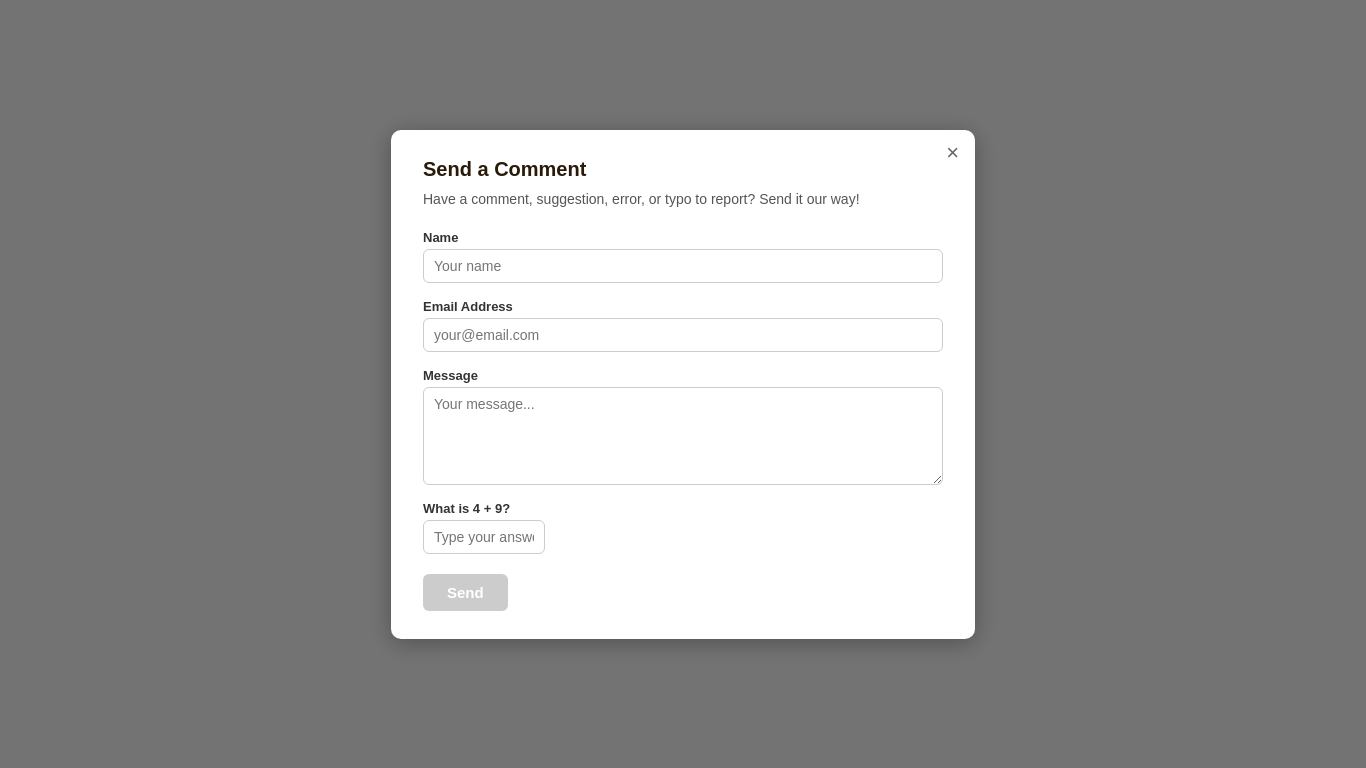
Test case: shows the server-provided error message on a failed response
The image size is (1366, 768).
In the field labelled "Name": (683, 266) [423,248,943,282], type "Drizzt"
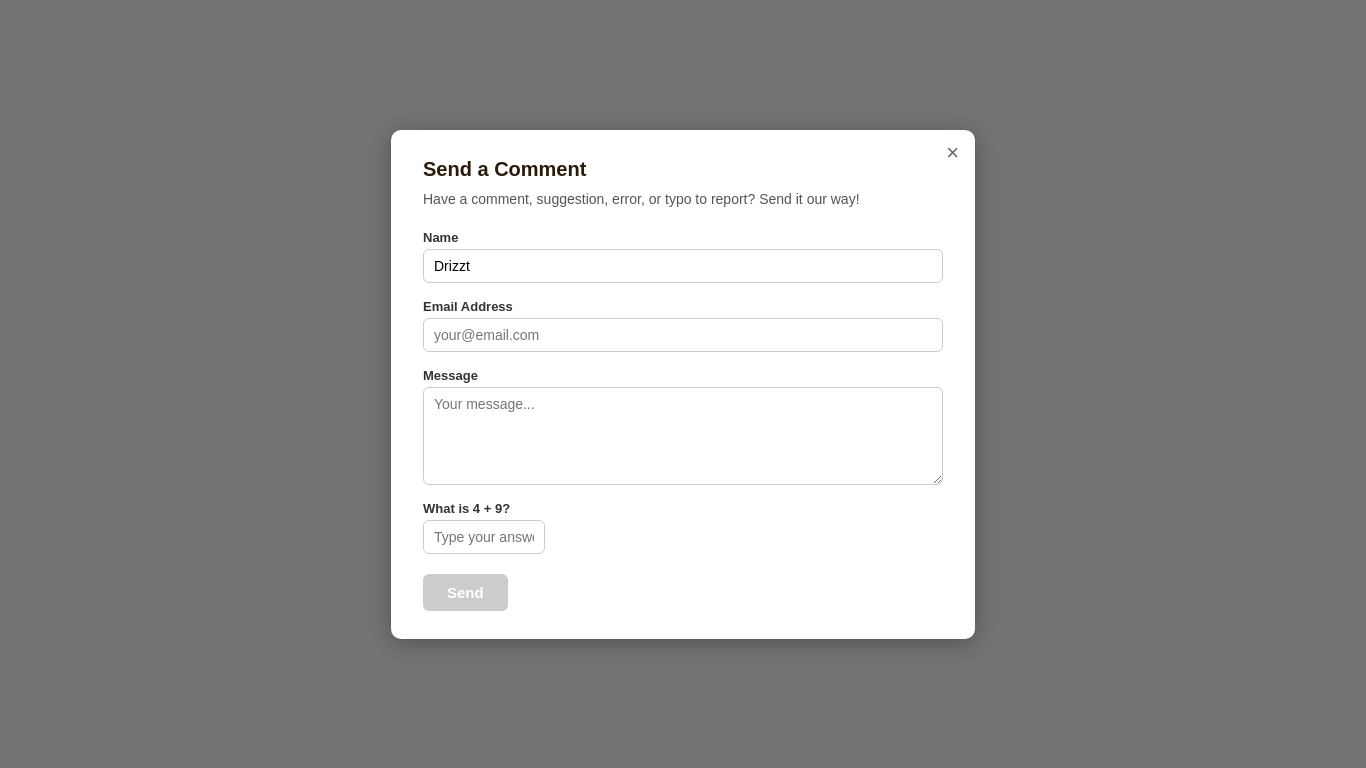
In the field labelled "Email Address": (683, 334) [423,318,943,352], type "drizzt@menzo.com"
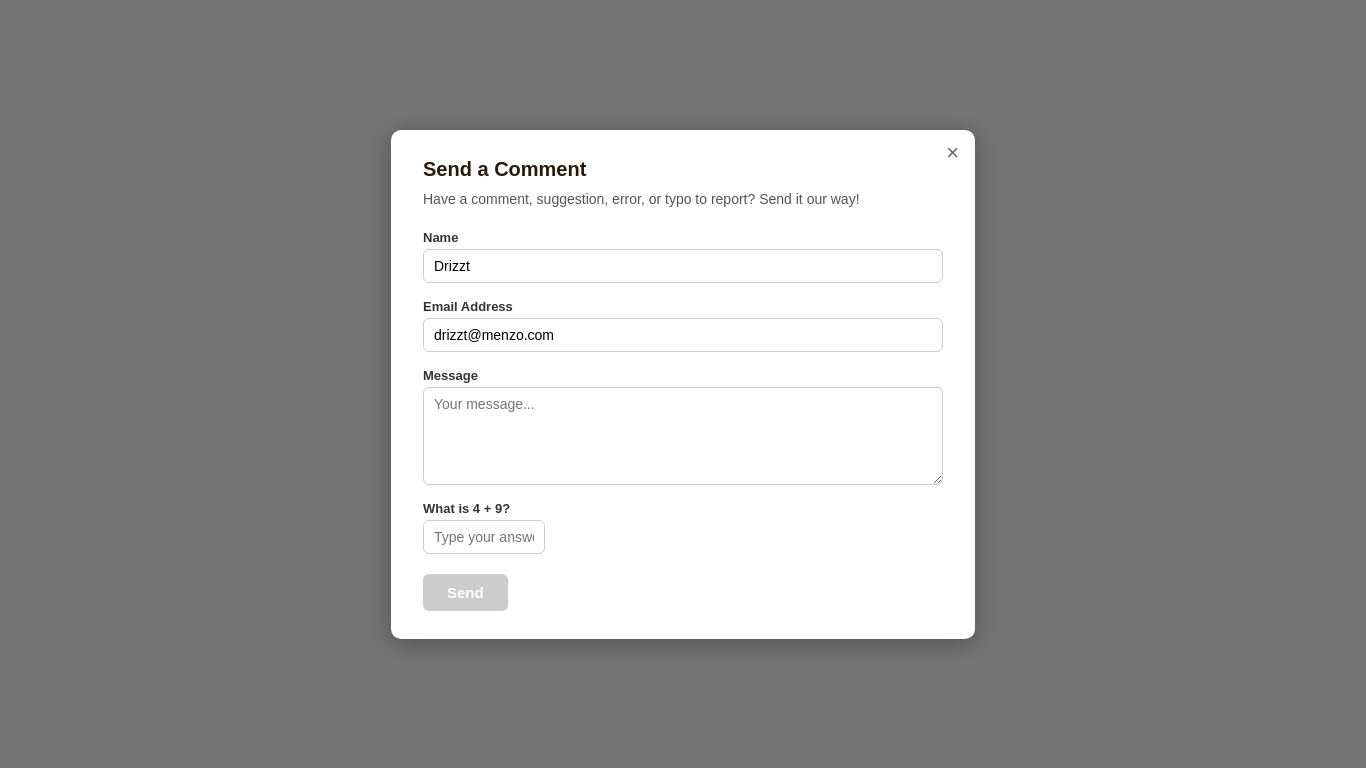
In the text box labelled "Message": (683, 436) [423,386,943,484], type "Hello there"
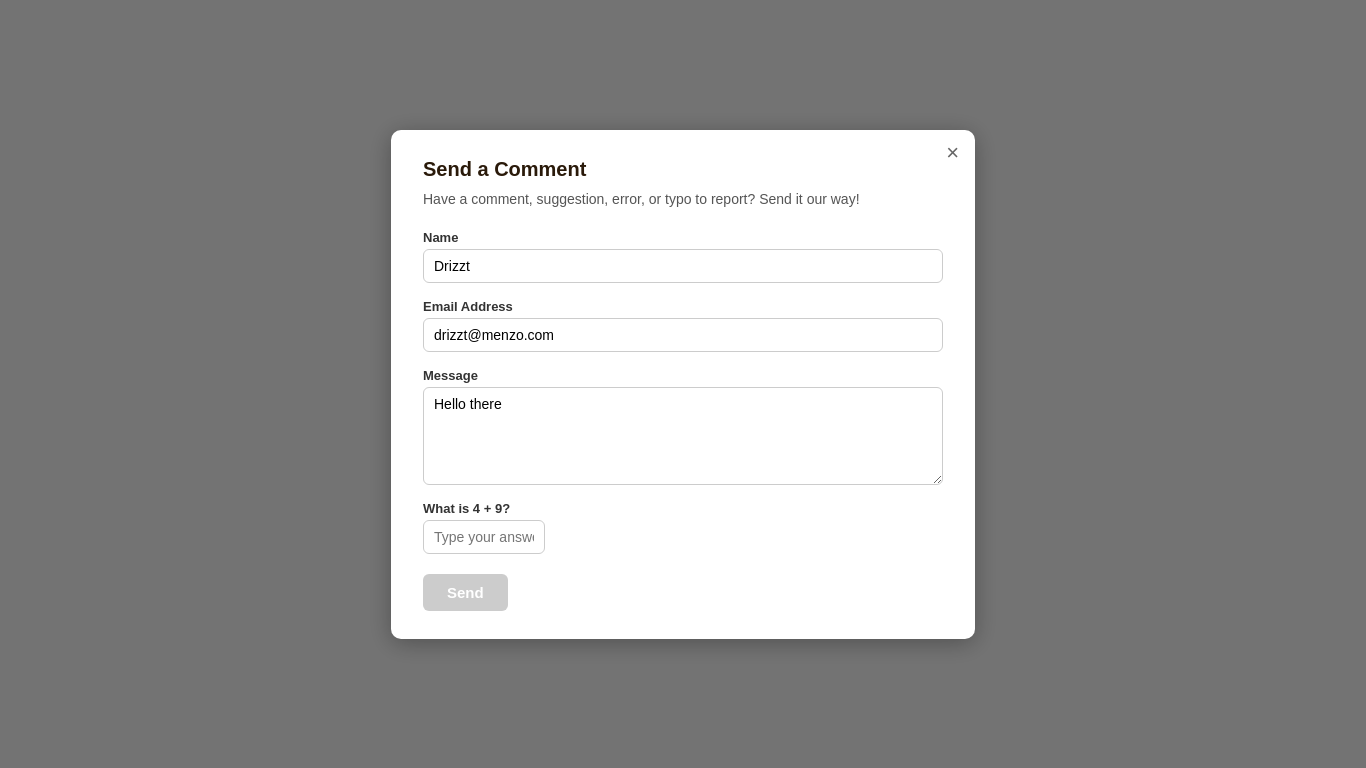
In the field labelled "What is 4 + 9?": (484, 536) [423,520,545,554], type "13"
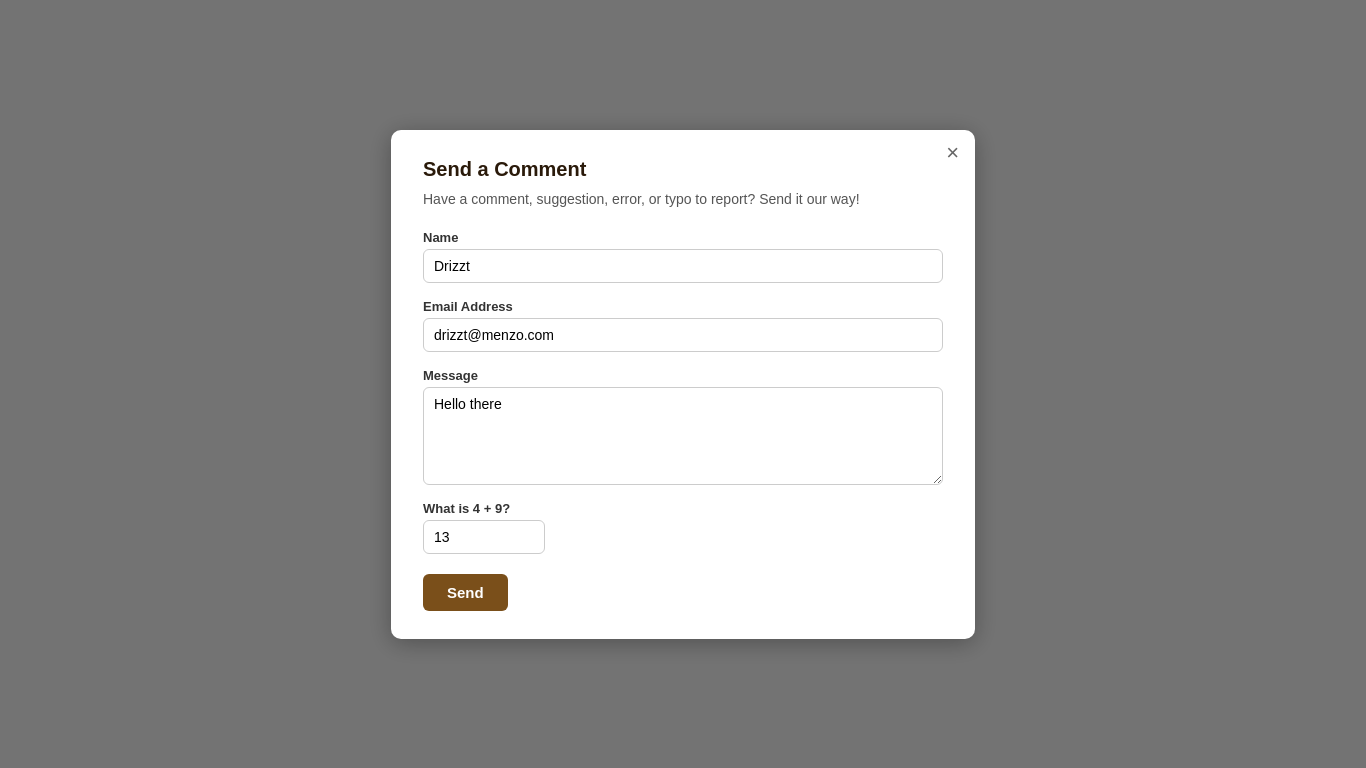
Click the button "Send": (465, 592) [423,574,508,610]
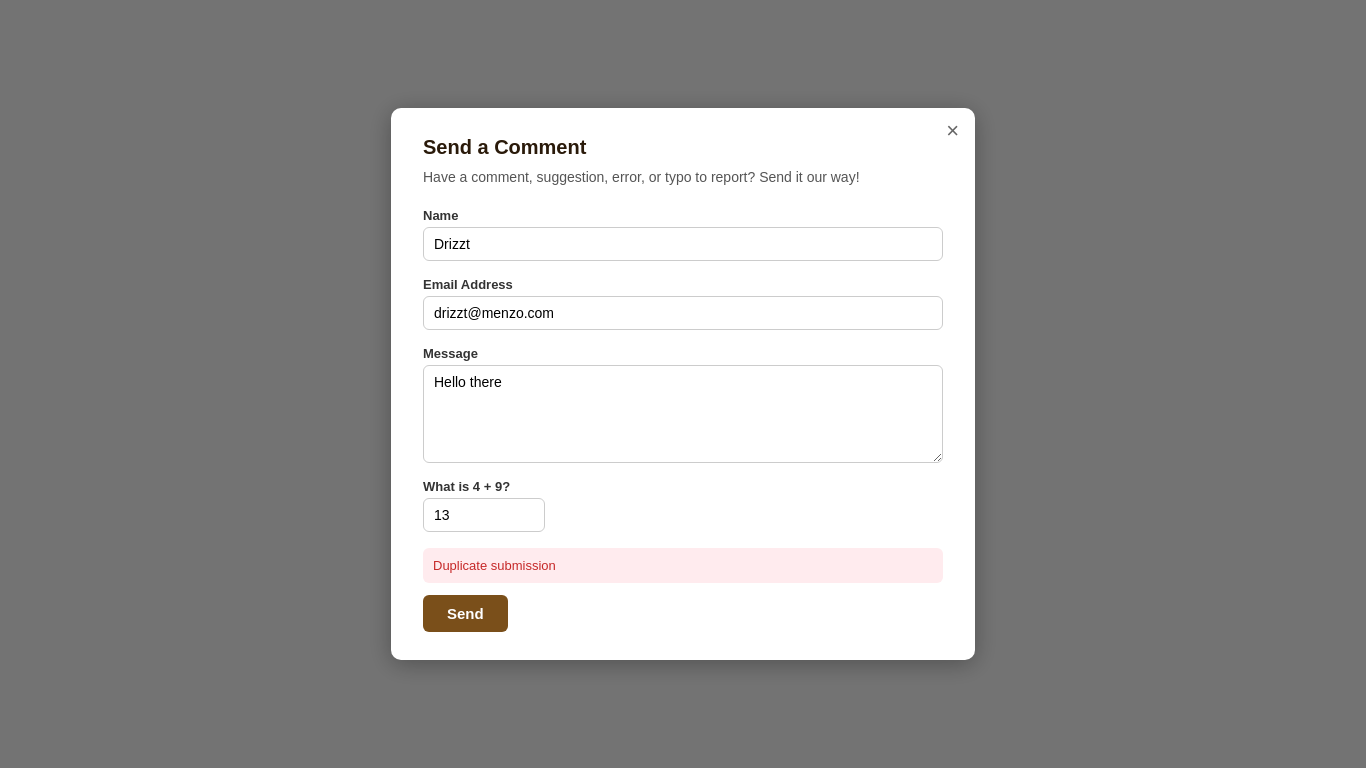
Check: the text "Duplicate submission" is shown, box [423,548,943,583]
